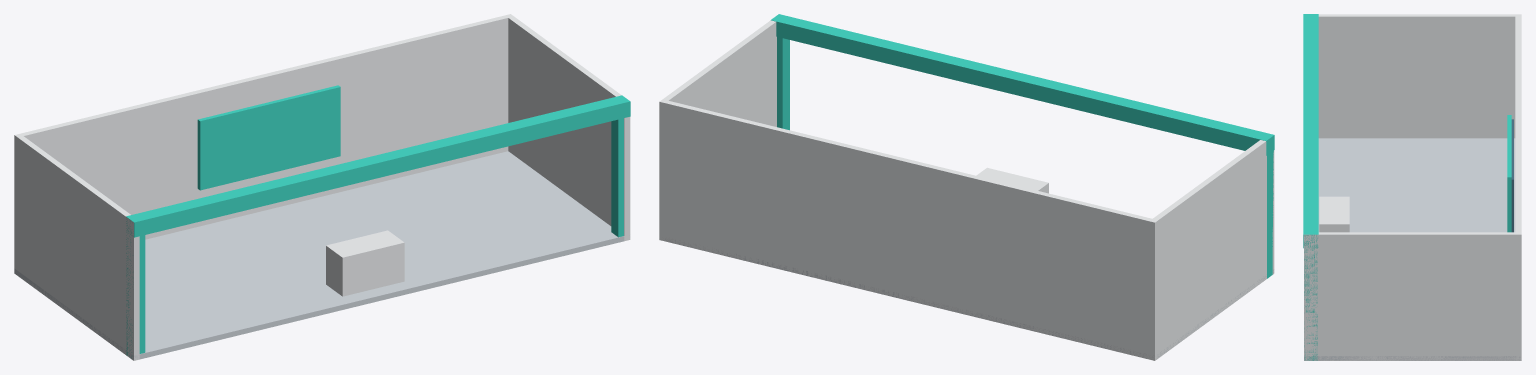
The picture shows the model from 3 angles, left to right: view 1: azimuth 30°, elevation 25°; view 2: azimuth 150°, elevation 25°; view 3: azimuth 270°, elevation 25°; orthographic projection. The views are drawn at different scales.
Visible parts, largest first — view 1: Exhibition Booth Concept; view 2: Exhibition Booth Concept; view 3: Exhibition Booth Concept.
Part boxes in pixels (left/top/right/bottom): Exhibition Booth Concept: left=14, top=14, right=630, bottom=360; Exhibition Booth Concept: left=659, top=14, right=1274, bottom=360; Exhibition Booth Concept: left=1303, top=14, right=1521, bottom=360.
Size of the model in its own units: 12 by 3.2 by 5.02.
